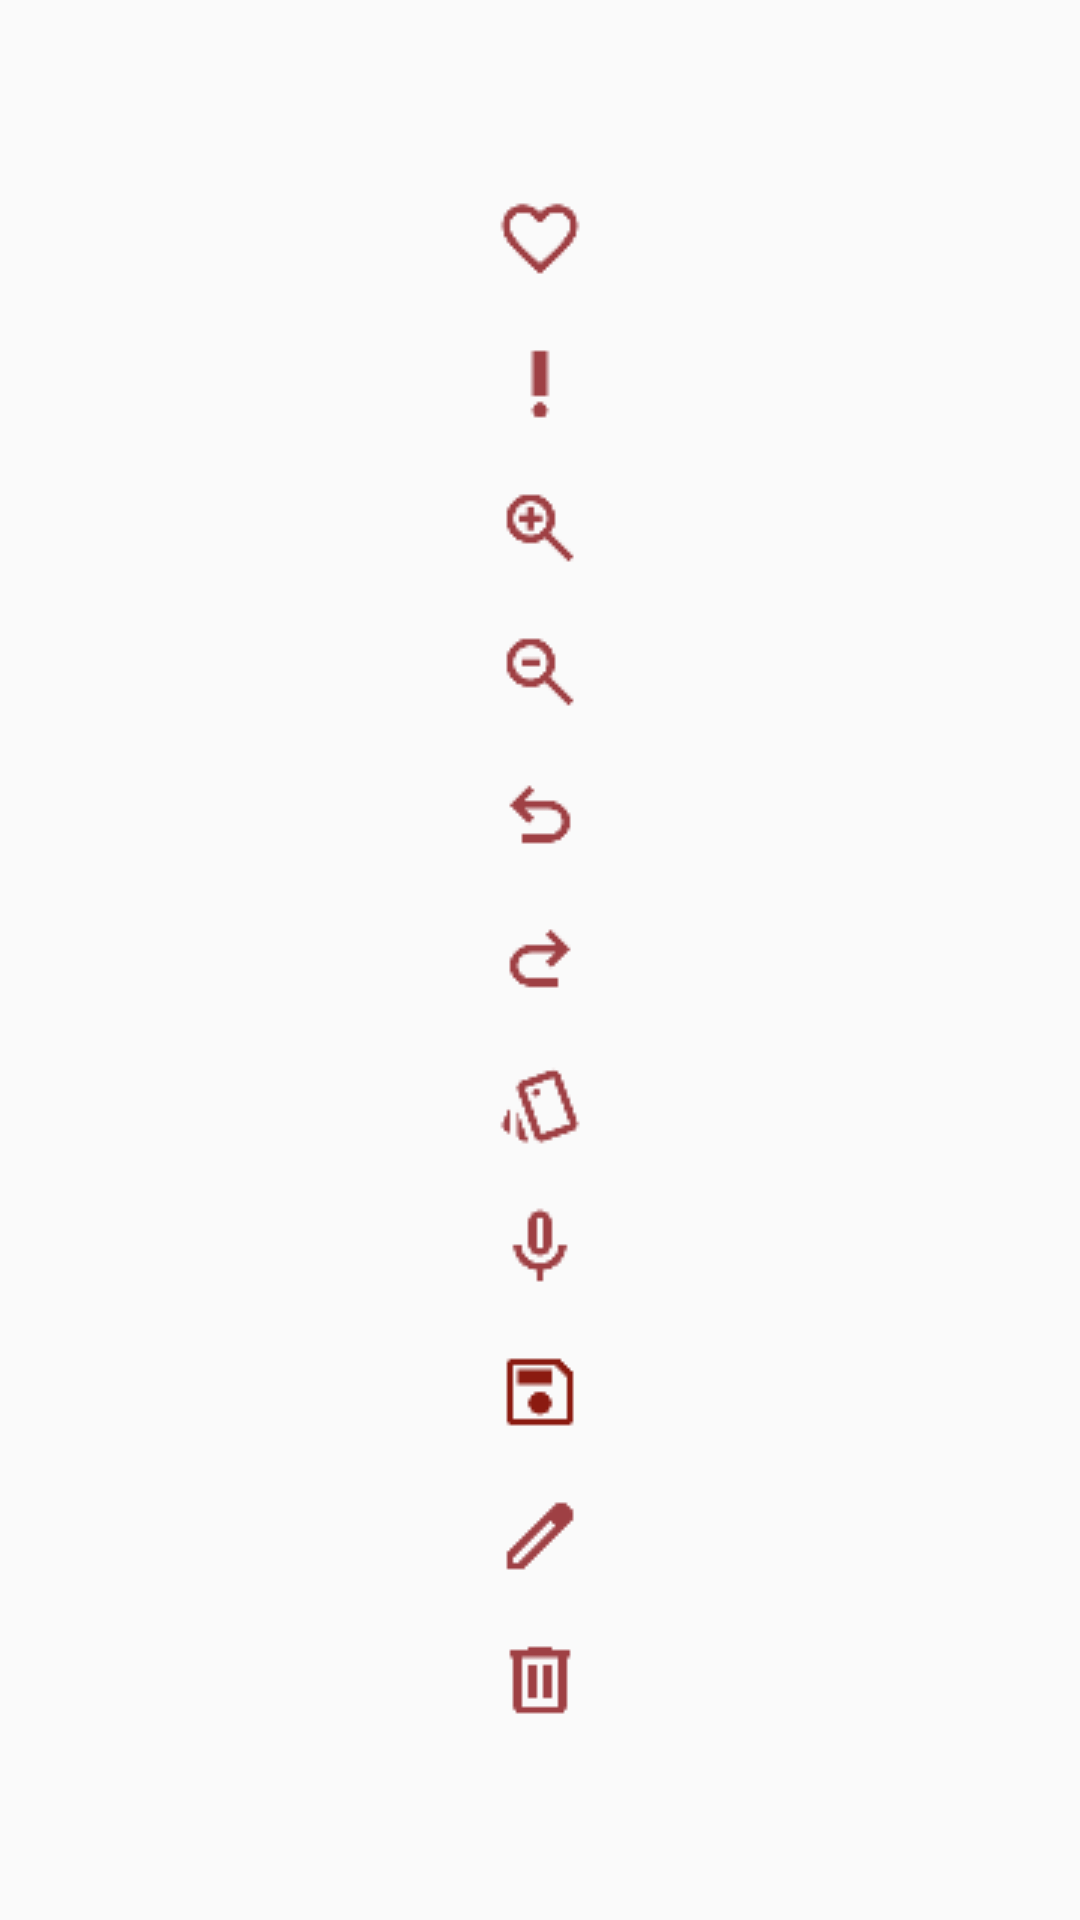

Icon bounding boxes for this 1080×1920 phone screenshot, format (x1, y1, x2, y2):
Delete: (509, 1646, 571, 1714)
edit: (506, 1502, 574, 1570)
Favourite: (500, 203, 580, 274)
Recorder: (512, 1208, 568, 1282)
Redo: (509, 929, 571, 988)
save: (506, 1358, 574, 1426)
Undo: (509, 785, 571, 844)
Urgent: (530, 350, 550, 418)
zoom in: (506, 494, 574, 562)
zoom out: (506, 638, 574, 706)
